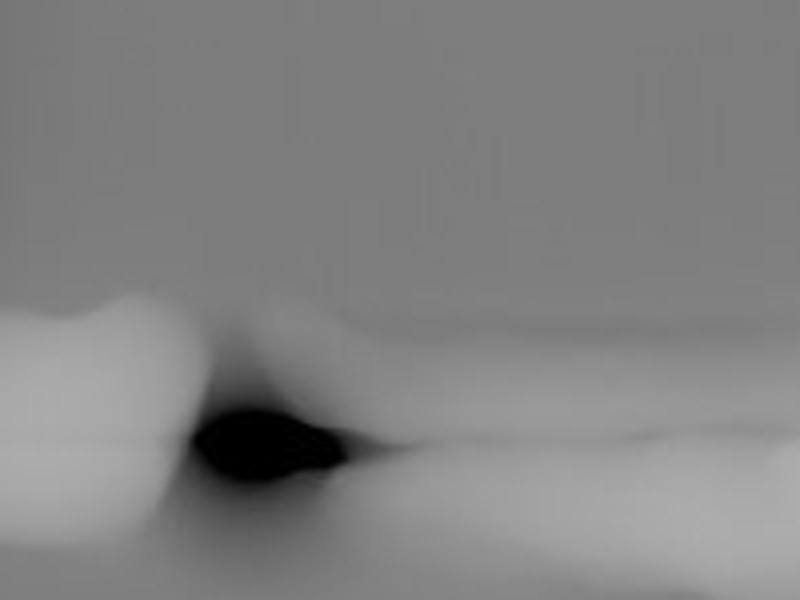defect: (195, 409, 349, 479)
